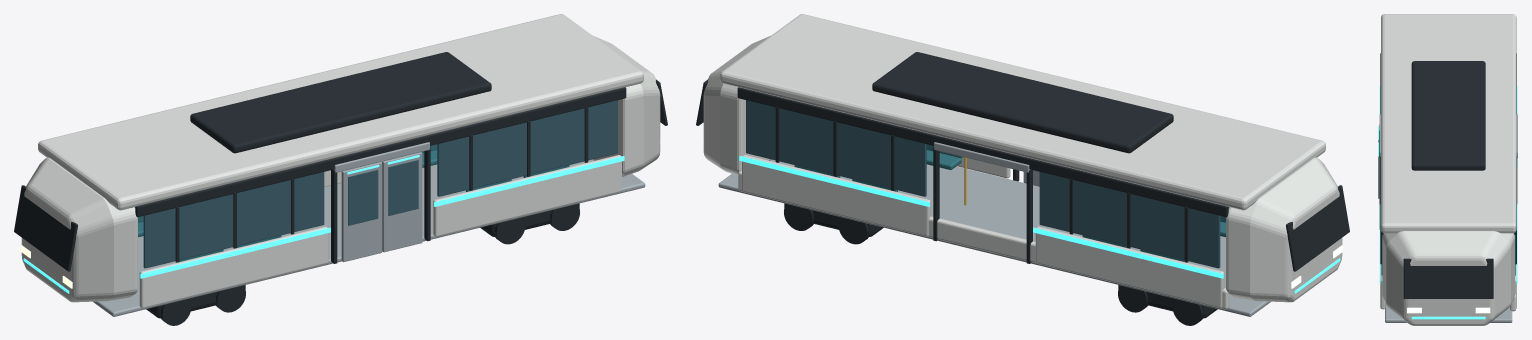
File: train.glb
3 renders of one model, left to right at view 1: azimuth 30°, elevation 25°; view 2: azimuth 150°, elevation 25°; view 3: azimuth 270°, elevation 25°, orthographic. The views are drawn at different scales.
Parts seen in each view (by area): view 1: Train_Pearl, Train_Graphite, Train_Glazing, Train_Metal, Train_Cyan, Door leaf, Door leaf.001, Door glass, Door glass.001, Train_Upholstery; view 2: Train_Pearl, Train_Graphite, Train_Glazing, Train_Metal, Train_Cyan, Train_Upholstery; view 3: Train_Pearl, Train_Graphite, Train_Cyan, Train_Metal, Train_Light, Door leaf.001, Train_Glazing.
Boxes of the visible parts, left/top/right/bottom form: Train_Pearl: left=21, top=14, right=660, bottom=308; Train_Graphite: left=14, top=52, right=667, bottom=325; Train_Glazing: left=143, top=100, right=617, bottom=268; Train_Metal: left=93, top=142, right=645, bottom=316; Train_Cyan: left=23, top=156, right=624, bottom=293; Door leaf: left=341, top=162, right=382, bottom=262; Door leaf.001: left=382, top=152, right=422, bottom=252; Door glass: left=348, top=170, right=378, bottom=225; Door glass.001: left=388, top=160, right=418, bottom=215; Train_Upholstery: left=135, top=144, right=569, bottom=261; Train_Pearl: left=703, top=14, right=1342, bottom=309; Train_Graphite: left=696, top=52, right=1349, bottom=325; Train_Glazing: left=746, top=100, right=1220, bottom=268; Train_Metal: left=718, top=142, right=1270, bottom=316; Train_Cyan: left=739, top=156, right=1340, bottom=293; Train_Upholstery: left=794, top=144, right=1228, bottom=261; Train_Pearl: left=1380, top=14, right=1516, bottom=325; Train_Graphite: left=1380, top=53, right=1517, bottom=298; Train_Cyan: left=1379, top=86, right=1517, bottom=319; Train_Metal: left=1379, top=114, right=1517, bottom=322; Train_Light: left=1407, top=307, right=1490, bottom=313; Door leaf.001: left=1379, top=141, right=1380, bottom=229; Train_Glazing: left=1381, top=235, right=1515, bottom=275.
Size of the model in its own units: 20.84 by 5.23 by 5.1.
